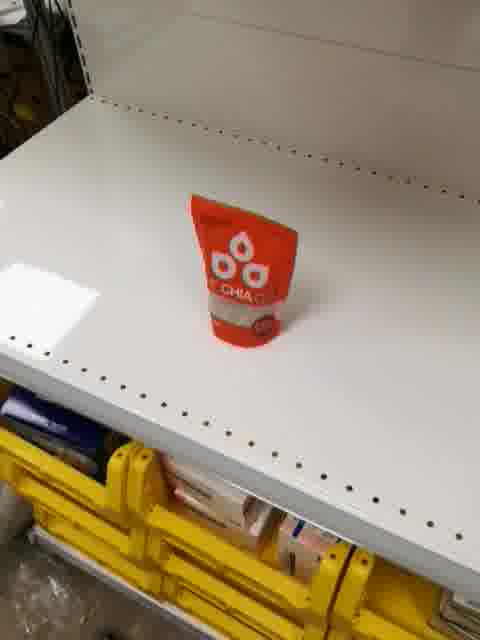whitechia: (188, 193, 299, 350)
